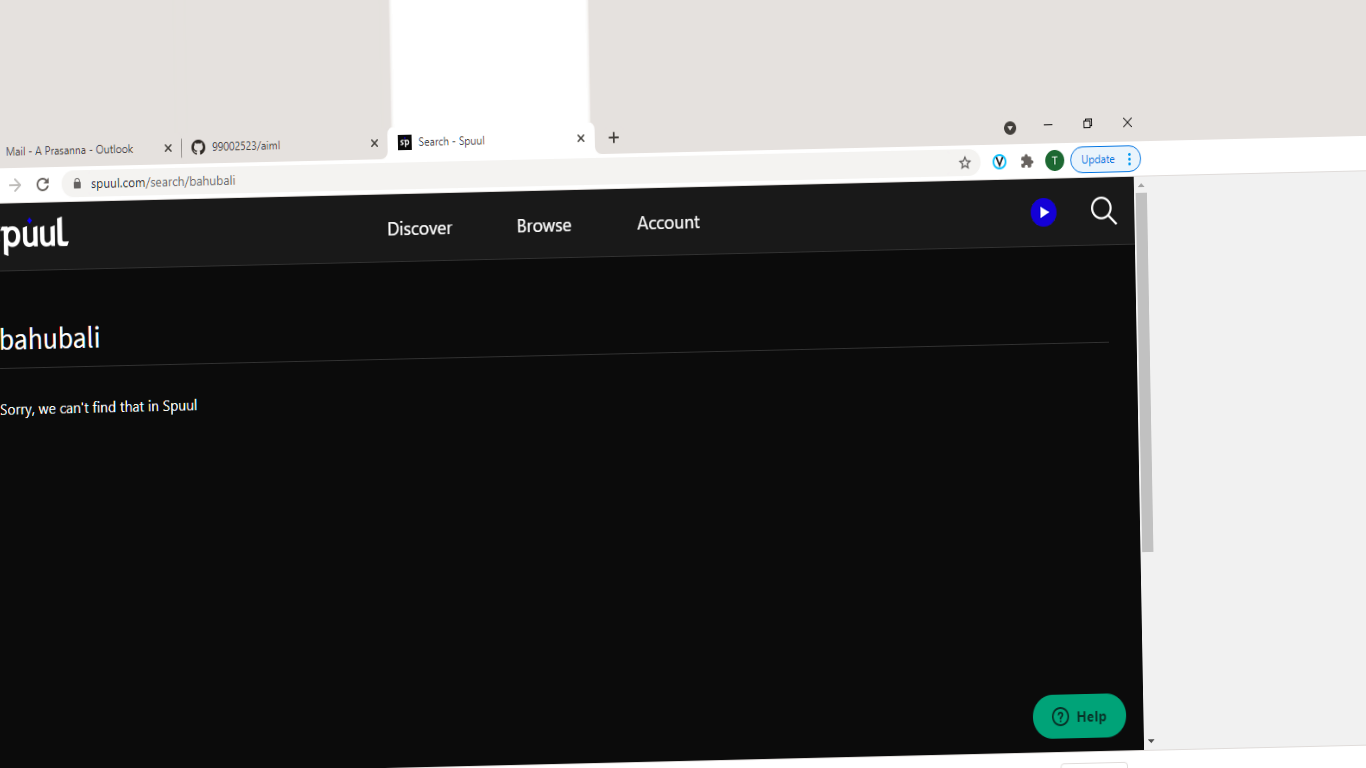myaccountbutton: (618, 190, 731, 257)
noresultsfound: (1, 391, 249, 422)
searchicon: (1079, 193, 1137, 246)
searchtextbox: (1, 305, 1100, 370)
